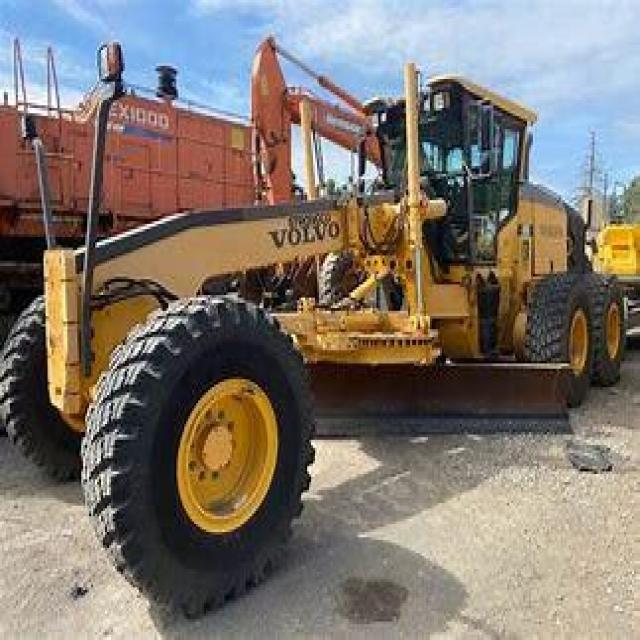buldozerpayloadergrader: (0, 53, 632, 595)
